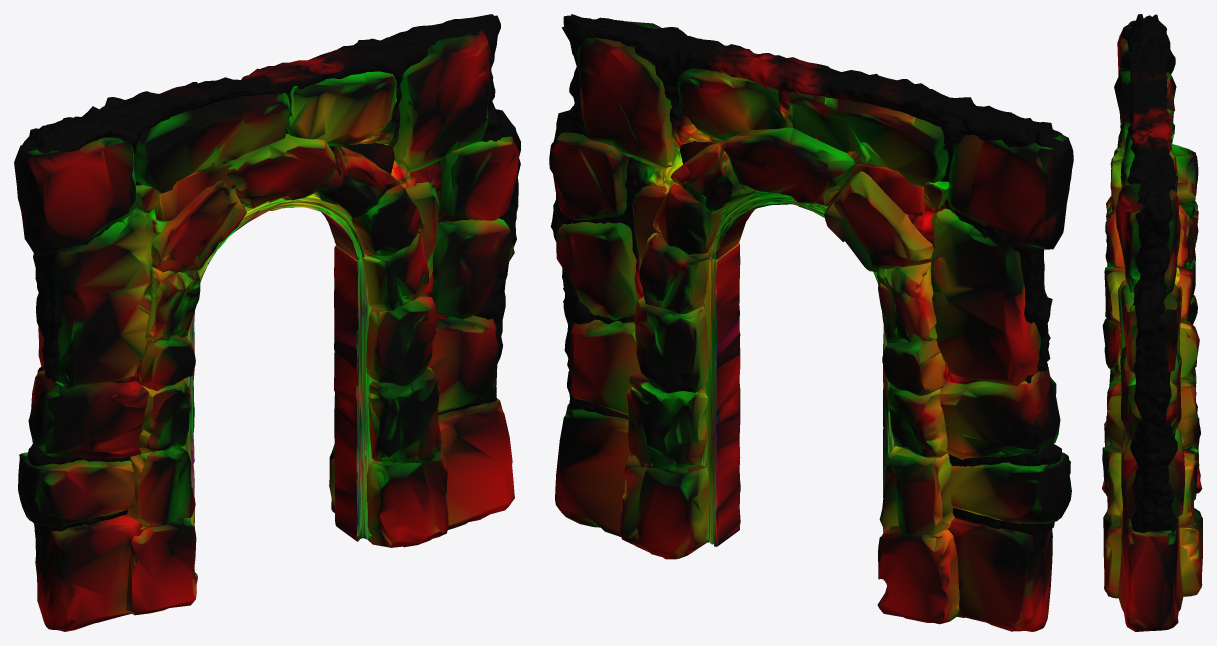
The model's file is SM_Stone_Doorway_Arc.fbx.
3 views of the same model, side by side, from view 1: azimuth 30°, elevation 25°; view 2: azimuth 150°, elevation 25°; view 3: azimuth 270°, elevation 25° (orthographic). The views are drawn at different scales.
Visible parts, largest first — view 1: SM_Stone_Doorway_Arc_LOD0; view 2: SM_Stone_Doorway_Arc_LOD0; view 3: SM_Stone_Doorway_Arc_LOD0.
Boxes of the visible parts, x1=… form: SM_Stone_Doorway_Arc_LOD0: x1=14, y1=14, x2=520, y2=631; SM_Stone_Doorway_Arc_LOD0: x1=549, y1=14, x2=1073, y2=631; SM_Stone_Doorway_Arc_LOD0: x1=1102, y1=14, x2=1202, y2=631.
Size of the model in its own units: 326 by 65.57 by 313.
